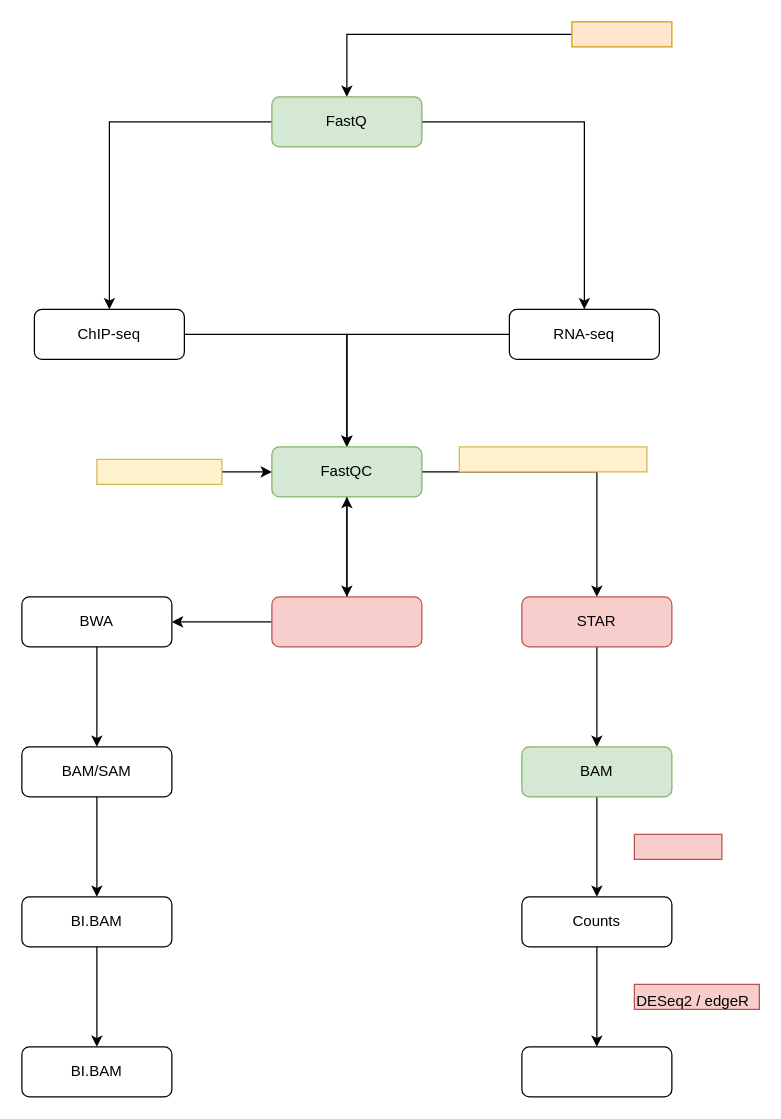
The diagram is 781 pixels wide and 1119 high, and some of its shapes have lost their labels. Each missing label, with the box of its shape:
check the quality: (96, 458, 222, 484)
Cutadapt: (271, 596, 422, 647)
Differential expression: (521, 1046, 672, 1097)
once we got good quality: (458, 446, 647, 472)
Rsubread: (633, 833, 722, 859)
SRA Toolkit: (571, 21, 672, 47)
